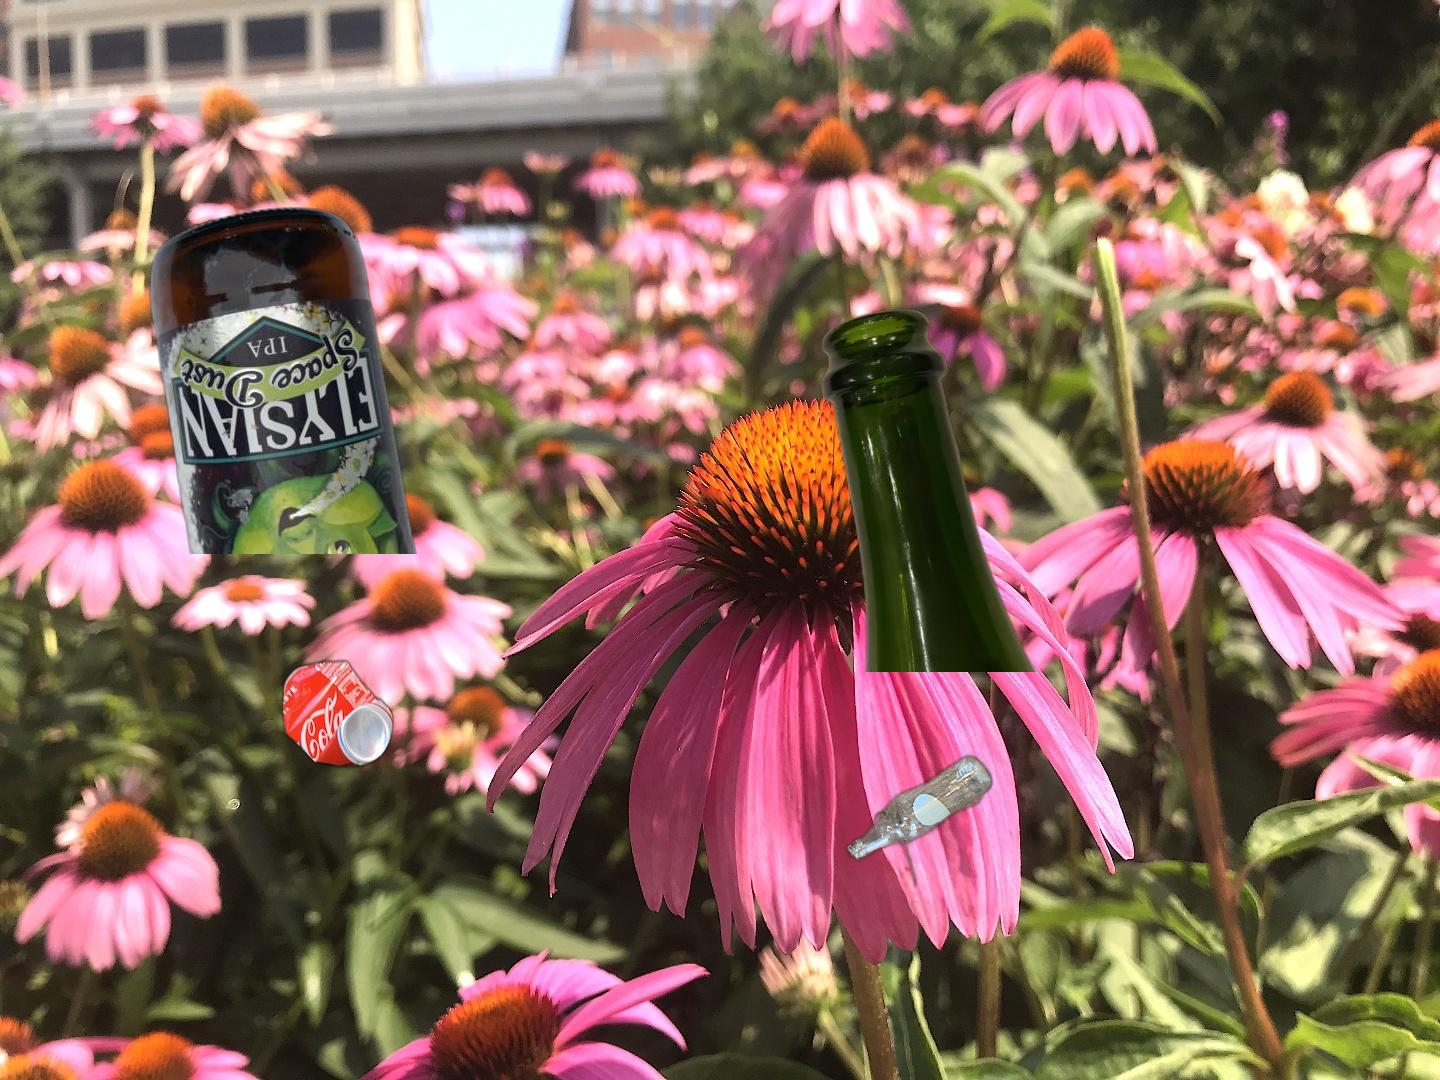glass: (146, 206, 420, 554), (816, 306, 1040, 672), (839, 749, 997, 893)
metal-cans: (135, 653, 647, 1080)
